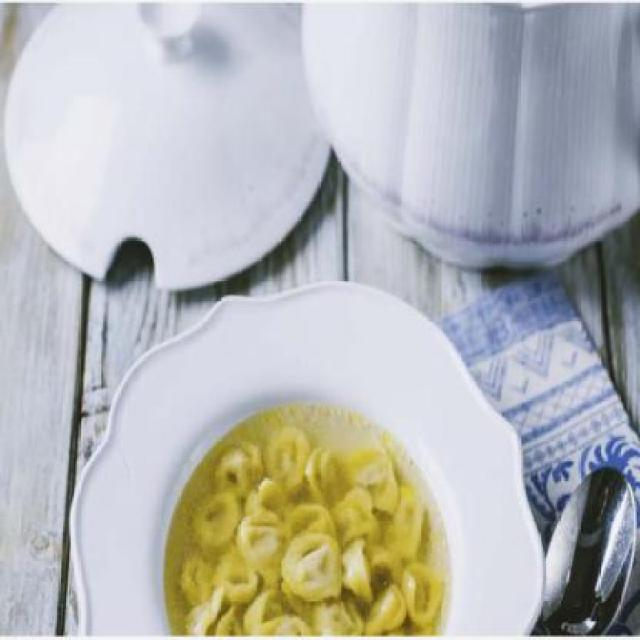Tortellini in broth: (188, 426, 444, 632)
